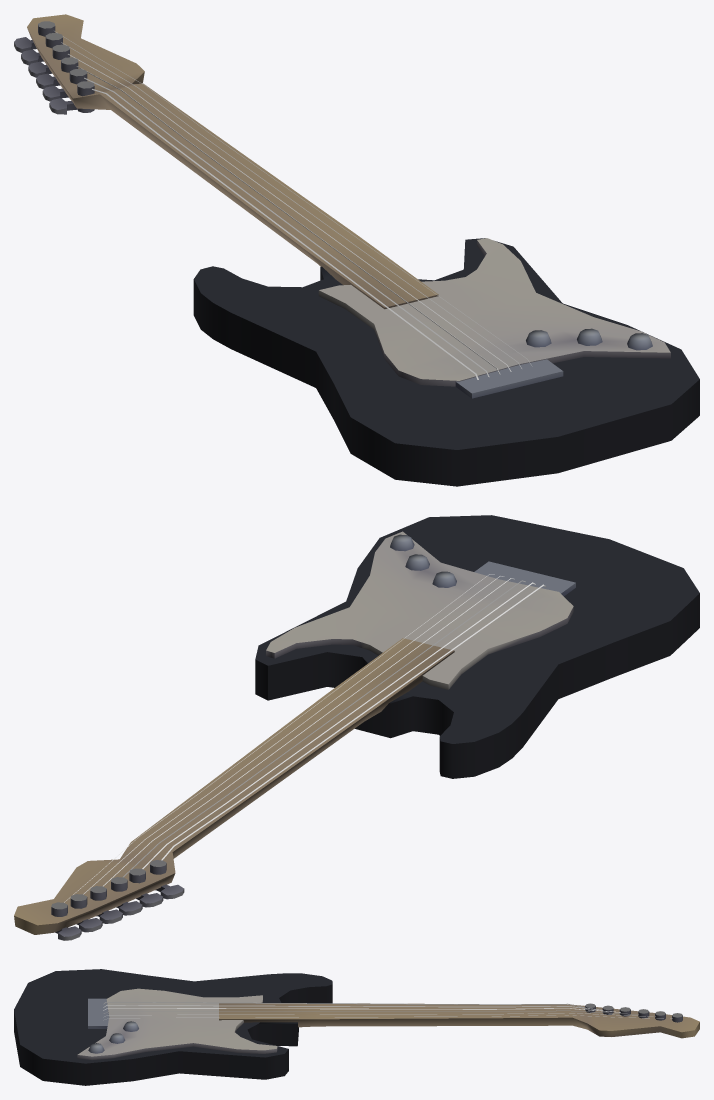
The model's file is human-music-electric-guitar_v2.glb.
3 views of the same model, one above another, from view 1: azimuth 30°, elevation 25°; view 2: azimuth 150°, elevation 25°; view 3: azimuth 270°, elevation 25° (orthographic). The views are drawn at different scales.
Visible parts, largest first — view 1: Electric Guitar_v2; view 2: Electric Guitar_v2; view 3: Electric Guitar_v2.
Boxes of the visible parts, <box> form: Electric Guitar_v2: <box>14,14,699,486</box>; Electric Guitar_v2: <box>14,515,699,940</box>; Electric Guitar_v2: <box>14,969,699,1085</box>.
Size of the model in its own units: 0.3262 by 0.0493 by 1.
